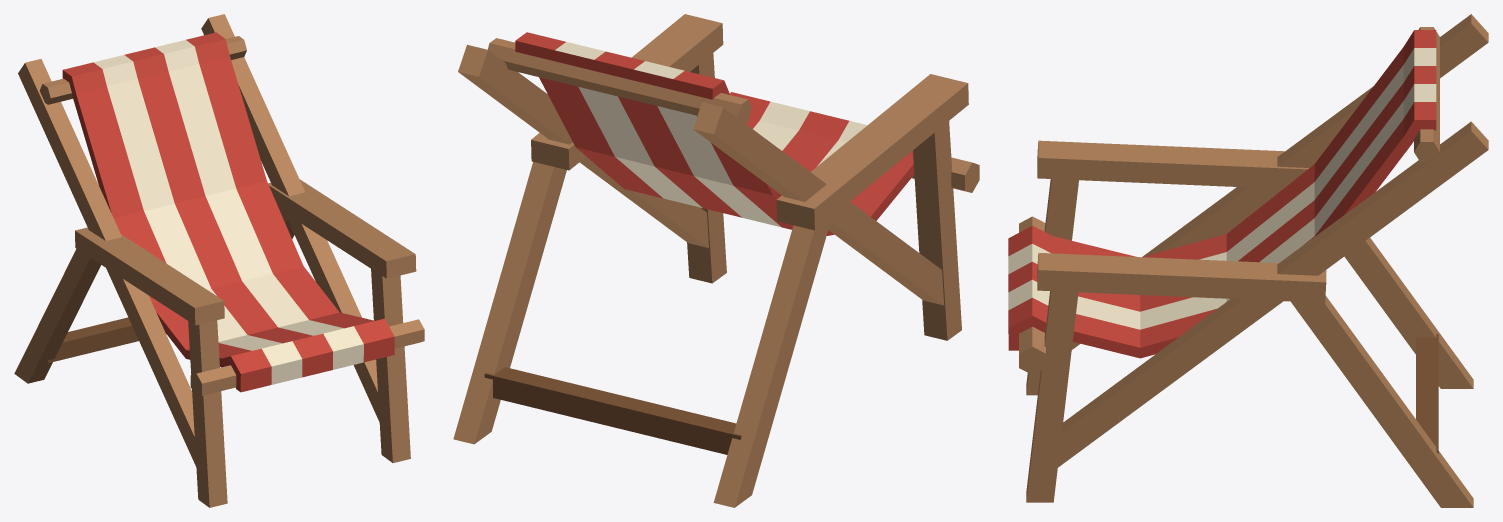
The model's file is FMS_Garden_Deck_Chair.fbx.
3 views of the same model, side by side, from view 1: azimuth 30°, elevation 25°; view 2: azimuth 150°, elevation 25°; view 3: azimuth 270°, elevation 25° (orthographic). The views are drawn at different scales.
Parts seen in each view (by area): view 1: FMS_Garden_Deck_Chair_Body; view 2: FMS_Garden_Deck_Chair_Body; view 3: FMS_Garden_Deck_Chair_Body.
Boxes of the visible parts, x1,y1,x2,y2 form: FMS_Garden_Deck_Chair_Body: (14,14,424,507); FMS_Garden_Deck_Chair_Body: (453,14,979,507); FMS_Garden_Deck_Chair_Body: (1008,14,1488,507).
Size of the model in its own units: 0.68 by 0.9033 by 1.06.
1 material, 1 textured.
